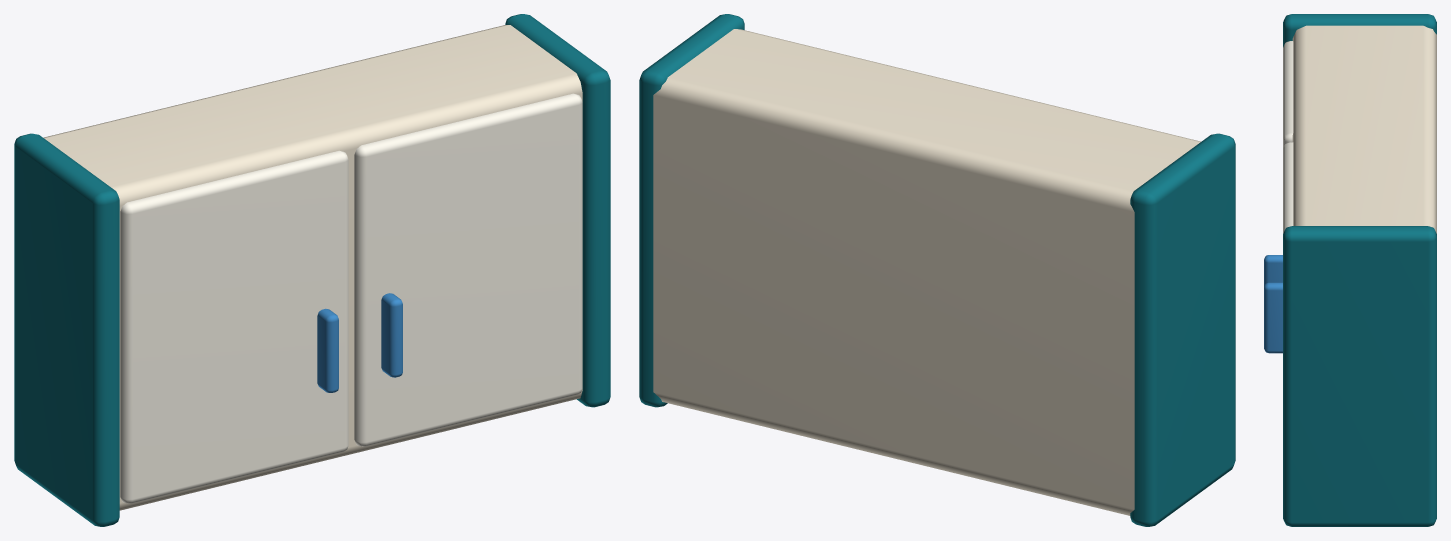
Rendered from Clinical_Wall_Cupboard.glb.
3 views of the same model, side by side, from view 1: azimuth 30°, elevation 25°; view 2: azimuth 150°, elevation 25°; view 3: azimuth 270°, elevation 25° (orthographic). The views are drawn at different scales.
Parts seen in each view (by area): view 1: Clinical_Wall_Cupboard__Visual; view 2: Clinical_Wall_Cupboard__Visual; view 3: Clinical_Wall_Cupboard__Visual.
Part boxes in pixels (x1,y1,x2,y2): Clinical_Wall_Cupboard__Visual: (14,14,610,526); Clinical_Wall_Cupboard__Visual: (639,14,1235,526); Clinical_Wall_Cupboard__Visual: (1264,14,1436,526).
Size of the model in its own units: 1.1 by 0.68 by 0.3595.
Materials: 1 (1 with a texture image).
